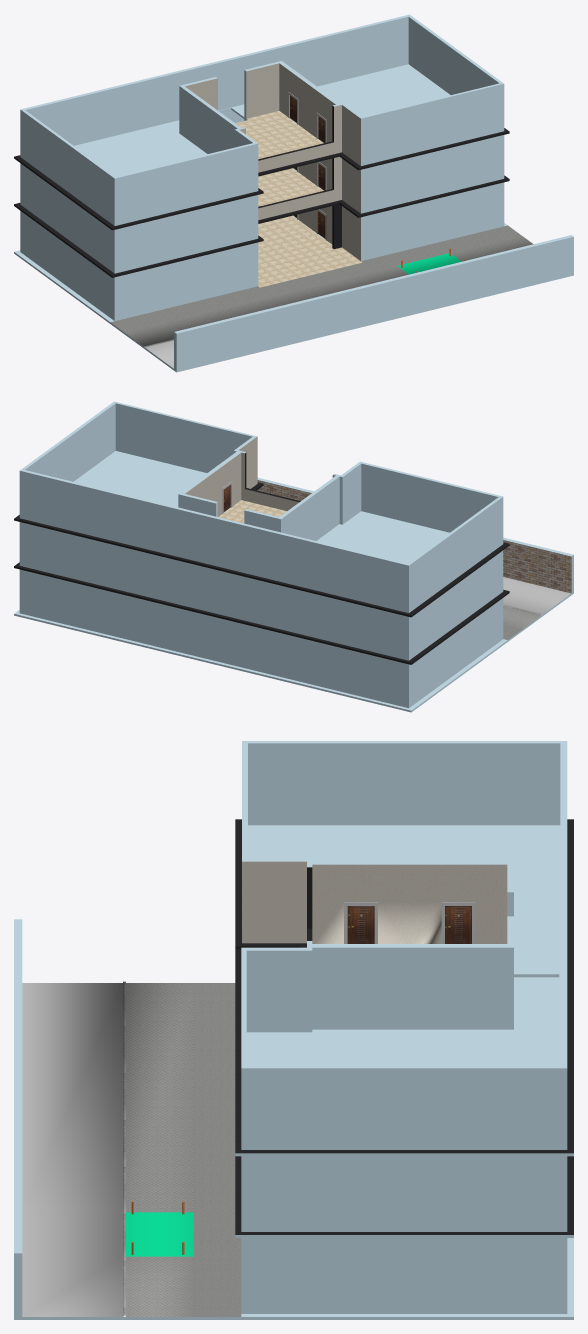
File: inferno.dae
The picture shows the model from 3 angles, top to bottom: view 1: azimuth 30°, elevation 25°; view 2: azimuth 150°, elevation 25°; view 3: azimuth 270°, elevation 25°; orthographic projection. The views are drawn at different scales.
Visible parts, largest first — view 1: Floor_2, Lobby_Plane.001, Floor_1; view 2: Floor_2, Lobby_Plane.001, Floor_1; view 3: Floor_2, Lobby_Plane.001, Floor_1.
Part boxes in pixels (x1,y1,x2,y2): Floor_2: (14,14,509,230); Lobby_Plane.001: (14,182,573,372); Floor_1: (14,109,509,277); Floor_2: (14,401,509,617); Lobby_Plane.001: (14,477,573,712); Floor_1: (14,490,509,664); Floor_2: (235,741,573,1156); Lobby_Plane.001: (14,919,573,1319); Floor_1: (235,949,573,1237).
Size of the model in its own units: 35 by 24.8 by 12.15.
